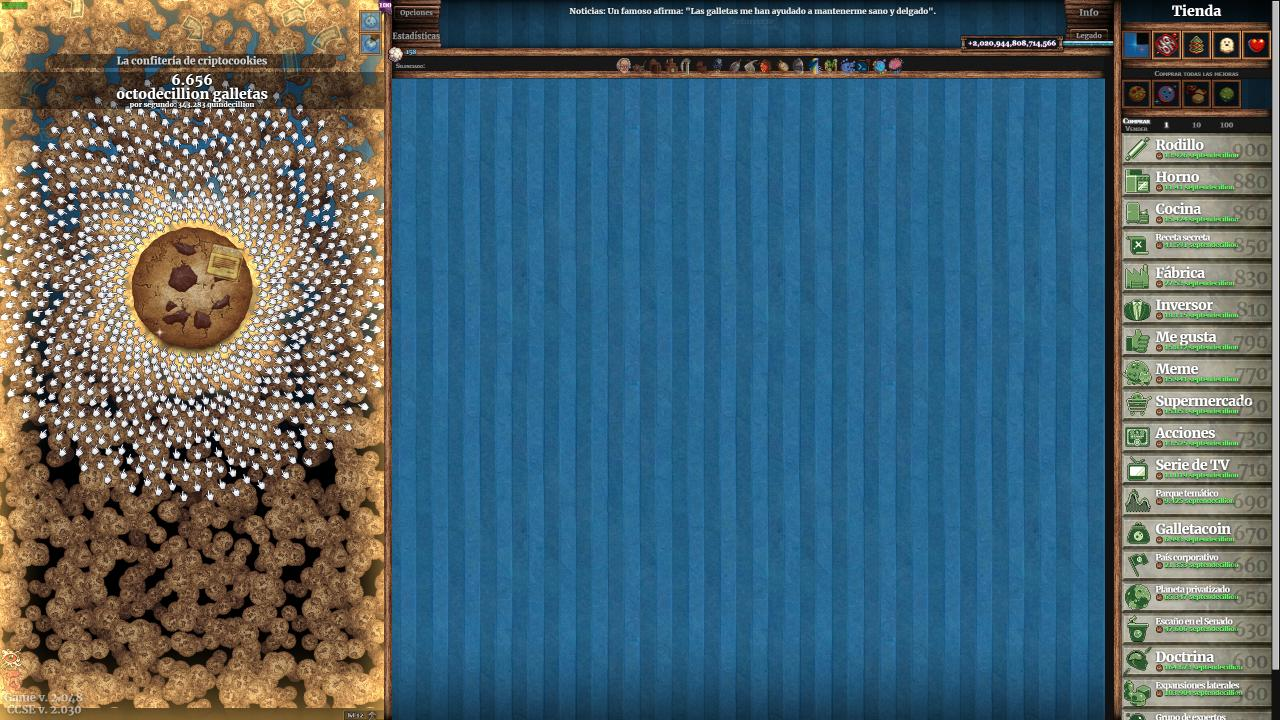GoldenCartridge: (205, 242, 248, 283)
